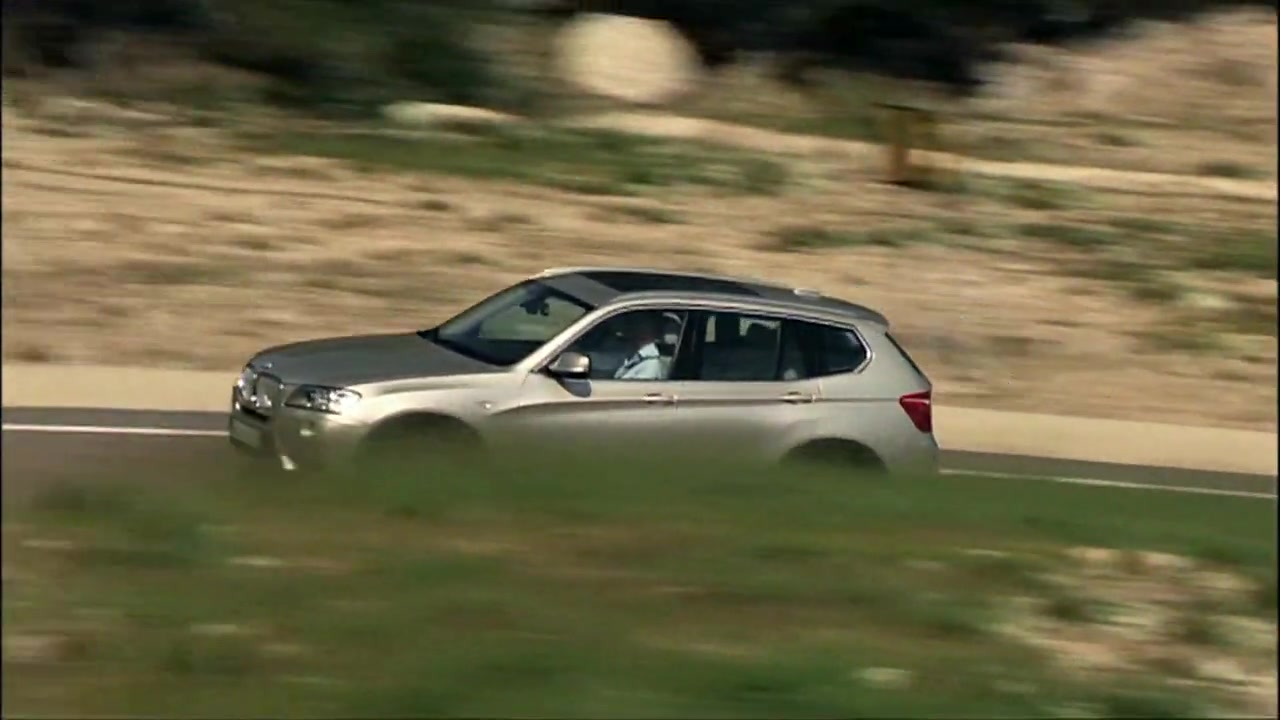car: (226, 261, 946, 507)
